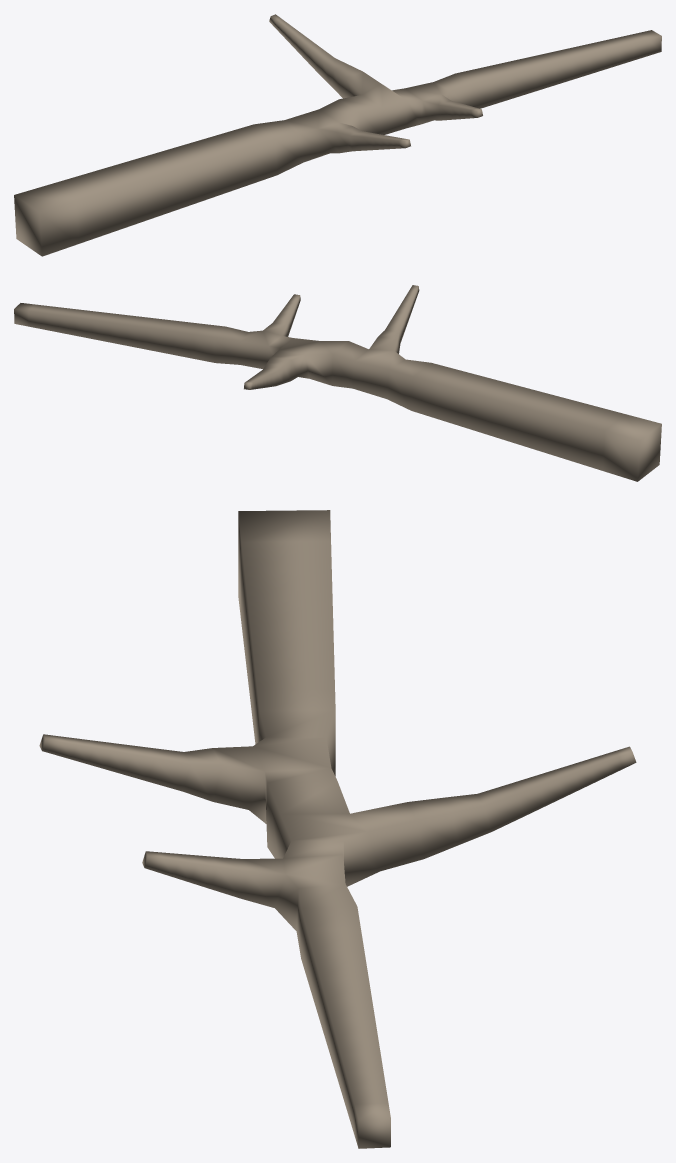
Rendered from drift_5.glb.
3 renders of one model, top to bottom at view 1: azimuth 30°, elevation 25°; view 2: azimuth 150°, elevation 25°; view 3: azimuth 270°, elevation 25°, orthographic. The views are drawn at different scales.
Parts seen in each view (by area): view 1: drift_5; view 2: drift_5; view 3: drift_5.
Part boxes in pixels (x1,y1,x2,y2): drift_5: [14, 14, 661, 256]; drift_5: [14, 285, 661, 481]; drift_5: [39, 510, 636, 1148].
Bounding box in the file's own units: 2.61 × 0.3137 × 1.1.
